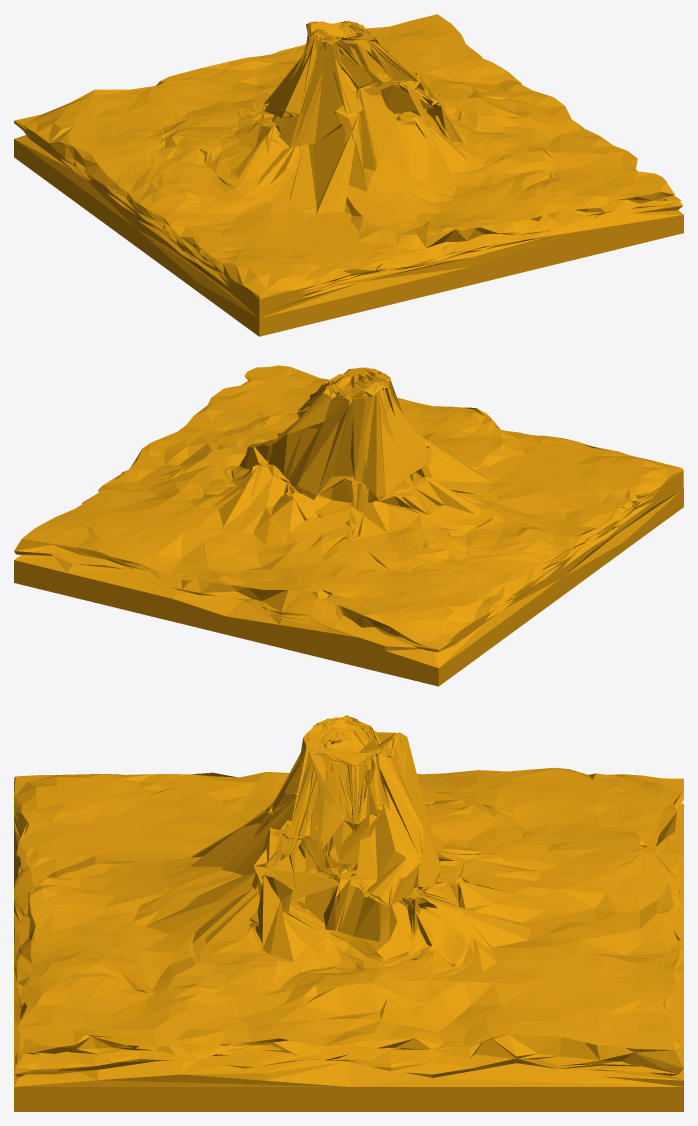
File: AntHillblend.fbx
3 views of the same model, one above another, from view 1: azimuth 30°, elevation 25°; view 2: azimuth 150°, elevation 25°; view 3: azimuth 270°, elevation 25° (orthographic). The views are drawn at different scales.
Visible parts, largest first — view 1: Cube; view 2: Cube; view 3: Cube.
Boxes of the visible parts, x1=… form: Cube: x1=14, y1=14, x2=683, y2=336; Cube: x1=14, y1=365, x2=683, y2=686; Cube: x1=14, y1=715, x2=683, y2=1111.
Bounding box in the file's own units: 508 × 195 × 508.
